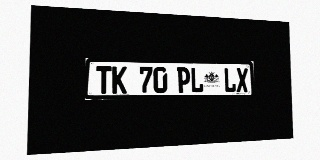0: (153, 67, 167, 93)
7: (139, 67, 153, 93)
K: (112, 66, 127, 94)
L: (190, 67, 204, 93), (224, 68, 236, 92)
P: (177, 67, 190, 93)
T: (96, 66, 111, 94)
X: (236, 68, 248, 92)
